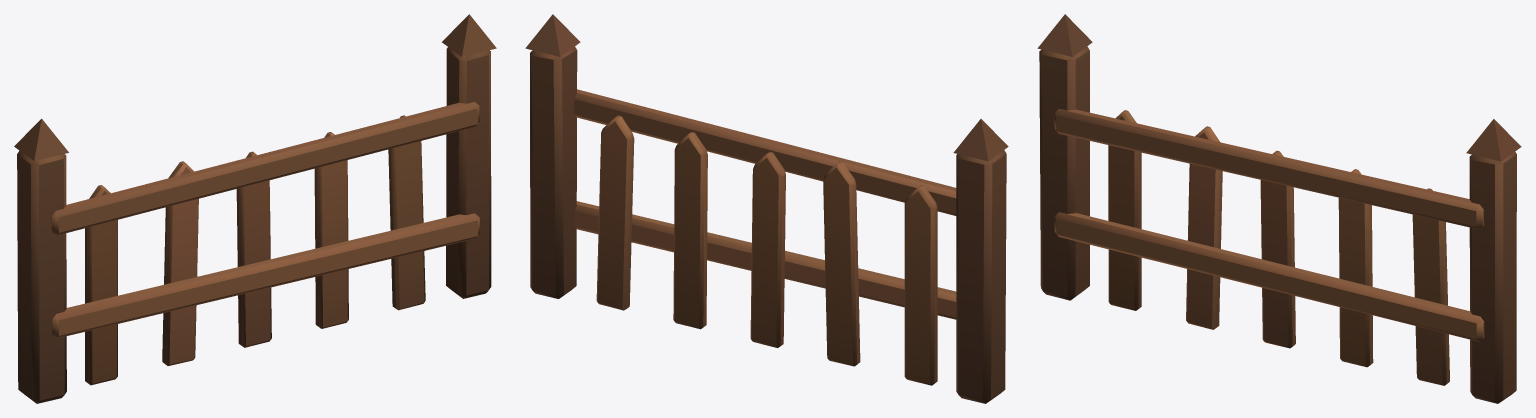
Rendered from fence.glb.
3 renders of one model, left to right at view 1: azimuth 30°, elevation 25°; view 2: azimuth 150°, elevation 25°; view 3: azimuth 330°, elevation 25°, orthographic.
Parts seen in each view (by area): view 1: fence; view 2: fence; view 3: fence.
Boxes of the visible parts, box(x1,y1,x2,y2) form: fence: box(14, 14, 496, 403); fence: box(525, 14, 1008, 403); fence: box(1037, 14, 1521, 403).
Size of the model in its own units: 1.08 by 0.62 by 0.094.
